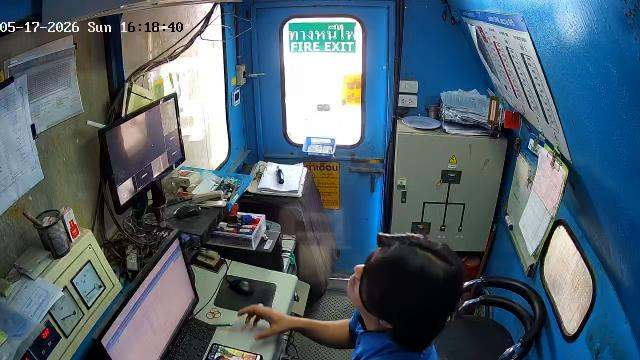Head: (346, 234, 463, 332)
People: (235, 233, 468, 360)
Phone: (204, 342, 264, 360)
